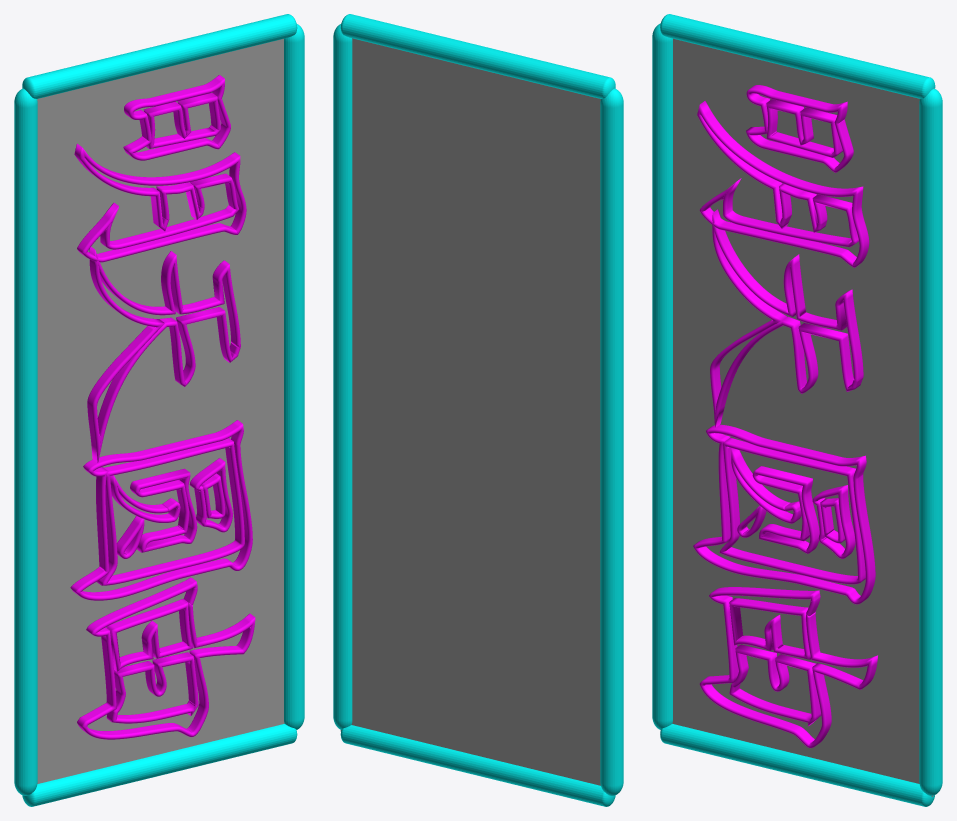
The model's file is Neon_CyberSign_01.fbx.
The picture shows the model from 3 angles, left to right: view 1: azimuth 30°, elevation 25°; view 2: azimuth 150°, elevation 25°; view 3: azimuth 330°, elevation 25°; orthographic projection.
Visible parts, largest first — view 1: uploads_files_2726526_Vertical_Cyberpunk_Sign:Vertical_sign_ (×6); view 2: uploads_files_2726526_Vertical_Cyberpunk_Sign:Vertical_sign_ (×5); view 3: uploads_files_2726526_Vertical_Cyberpunk_Sign:Vertical_sign_ (×6).
Part boxes in pixels (left/top/right/bottom): uploads_files_2726526_Vertical_Cyberpunk_Sign:Vertical_sign_ (×6): left=14, top=14, right=304, bottom=806; uploads_files_2726526_Vertical_Cyberpunk_Sign:Vertical_sign_ (×5): left=333, top=14, right=623, bottom=806; uploads_files_2726526_Vertical_Cyberpunk_Sign:Vertical_sign_ (×6): left=652, top=14, right=942, bottom=806.
Bounding box in the file's own units: 0.8515 × 2.06 × 0.0881.
